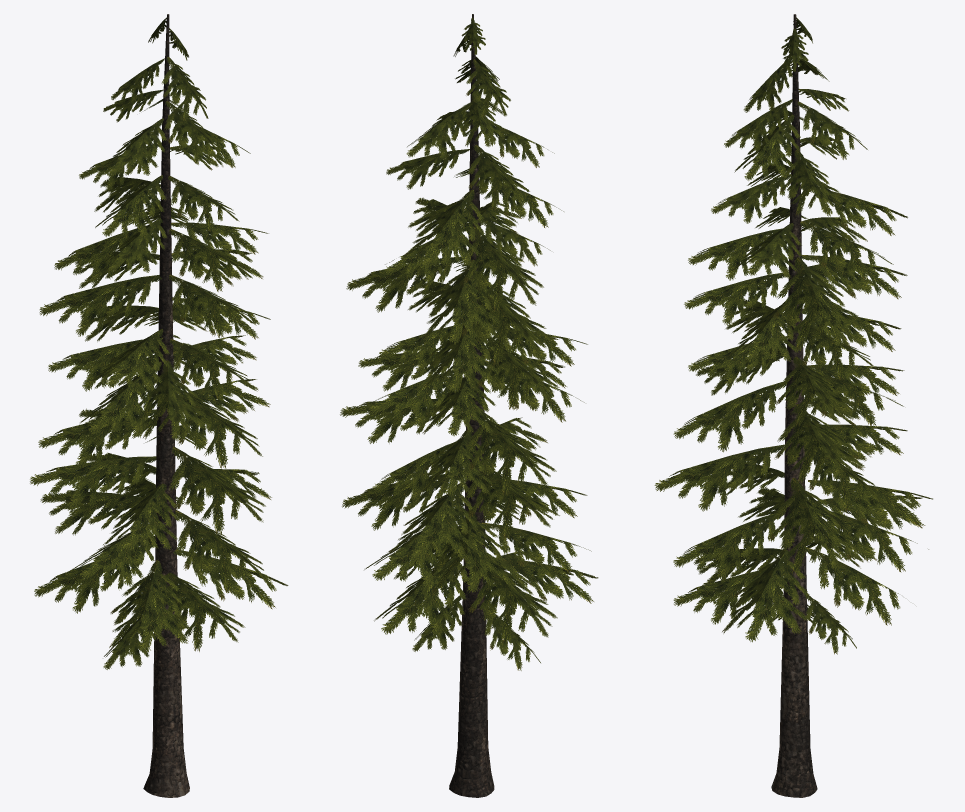
The model's file is pine_tree_n_2_3.obj.
The picture shows the model from 3 angles, left to right: view 1: azimuth 30°, elevation 25°; view 2: azimuth 150°, elevation 25°; view 3: azimuth 270°, elevation 25°; orthographic projection.
Parts seen in each view (by area): view 1: pine_tree_n_2_3_branches, pine_tree_n_2_3; view 2: pine_tree_n_2_3_branches, pine_tree_n_2_3; view 3: pine_tree_n_2_3_branches, pine_tree_n_2_3.
Part boxes in pixels (<box>): pine_tree_n_2_3_branches: <box>30,17,288,669</box>; pine_tree_n_2_3: <box>143,14,189,797</box>; pine_tree_n_2_3_branches: <box>340,17,598,670</box>; pine_tree_n_2_3: <box>449,14,494,797</box>; pine_tree_n_2_3_branches: <box>654,17,932,654</box>; pine_tree_n_2_3: <box>771,14,817,797</box>.
Size of the model in its own units: 1.98 by 5.73 by 2.06.
